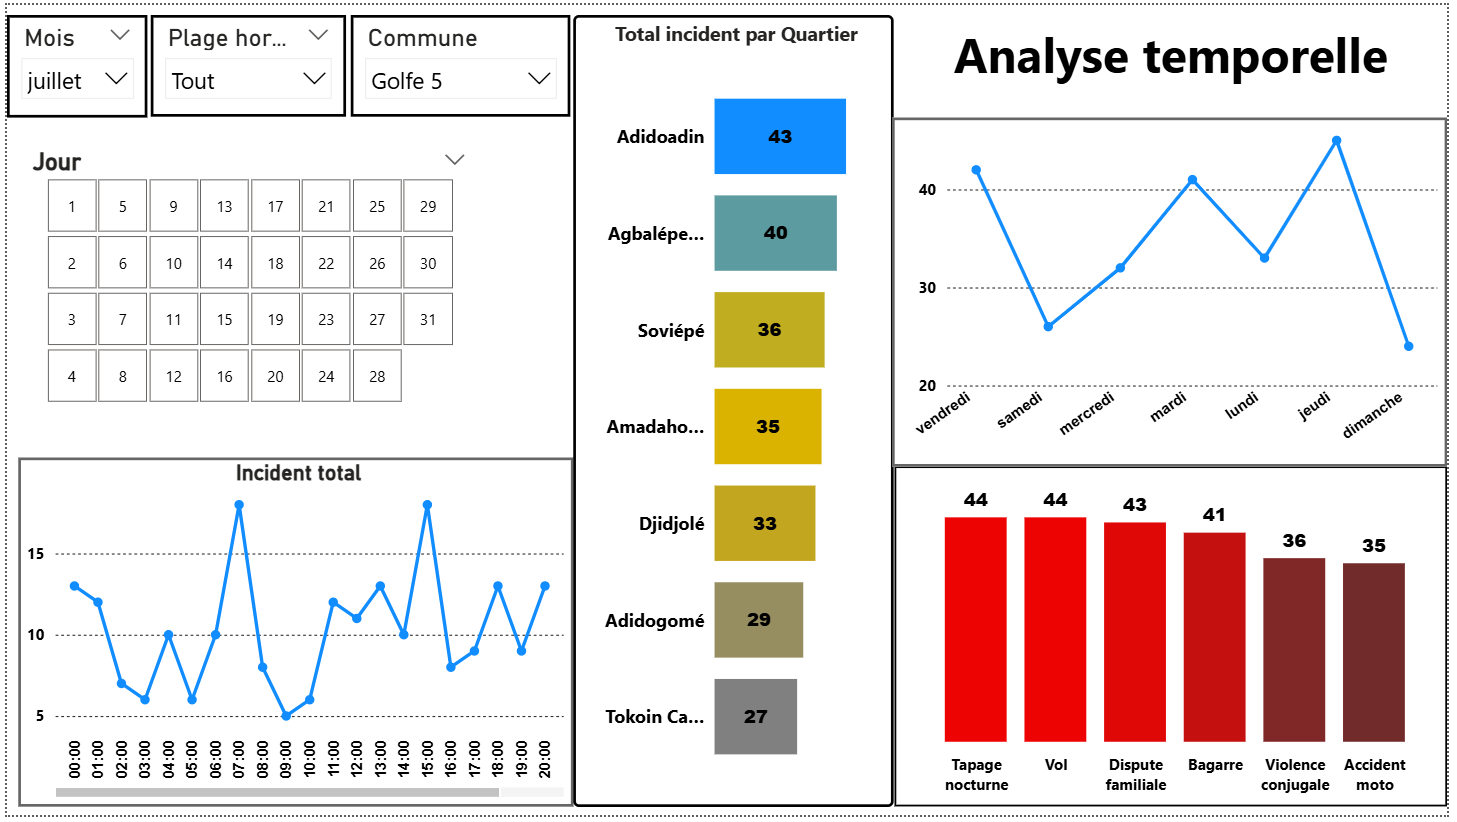

This screenshot's page, from the dashboard's own definition file:
{"tool":"powerbi","page":{"name":"Analyse temporelle","canvas":[1280,720],"ordinal":2},"visuals":[{"type":"lineChart","title":"Incident total","fields":{"Y":["incidents_grand_lome.Total incident"],"Category":["incidents_grand_lome.HeureFormatée"]},"box":[10,402.5,493.8,310],"z":0},{"type":"slicer","fields":{"Values":["incidents_grand_lome.Segment_horaire_appel"]},"box":[127.2,9.3,173.5,90.2],"z":1000},{"type":"slicer","fields":{"Values":["incidents_grand_lome.Date_appel.Variation.Hiérarchie de dates.Mois"]},"box":[0,8.8,125,91.2],"z":2000},{"type":"slicer","fields":{"Values":["incidents_grand_lome.Date_appel.Variation.Hiérarchie de dates.Jour"]},"box":[10,122.5,410,237.5],"z":3000},{"type":"columnChart","fields":{"Category":["incidents_grand_lome.Type_incident"],"Y":["incidents_grand_lome.Total incident"]},"box":[788.8,410,491.2,302.5],"z":4000},{"type":"slicer","fields":{"Values":["incidents_grand_lome.Commune"]},"box":[305.4,9.3,195.5,90.2],"z":5000},{"type":"clusteredBarChart","fields":{"Category":["incidents_grand_lome.Quartier"],"Y":["incidents_grand_lome.Total incident"]},"box":[503.8,8.8,285,703.8],"z":6000},{"type":"lineChart","fields":{"Category":["incidents_grand_lome.Jour"],"Y":["incidents_grand_lome.Total incident"]},"box":[786.2,100,493.8,310],"z":7000},{"type":"textbox","box":[788.8,8.8,491.2,82.5],"z":8000}]}

Visuals, with their boxes in screenshot pixels (x1, y1, x2, y2), scaled from the page's 1280x720 canvas onto the 1457x822 screenshot:
"Incident total" lineChart: 11 460 573 813
slicer - incidents_grand_lome.Segment_horaire_appel: 145 11 342 114
slicer - incidents_grand_lome.Date_appel.Variation.Hiérarchie de dates.Mois: 0 10 142 114
slicer - incidents_grand_lome.Date_appel.Variation.Hiérarchie de dates.Jour: 11 140 478 411
columnChart - incidents_grand_lome.Type_incident x incidents_grand_lome.Total incident: 898 468 1456 813
slicer - incidents_grand_lome.Commune: 348 11 570 114
clusteredBarChart - incidents_grand_lome.Quartier x incidents_grand_lome.Total incident: 573 10 898 814
lineChart - incidents_grand_lome.Jour x incidents_grand_lome.Total incident: 895 114 1456 468
textbox: 898 10 1456 104
